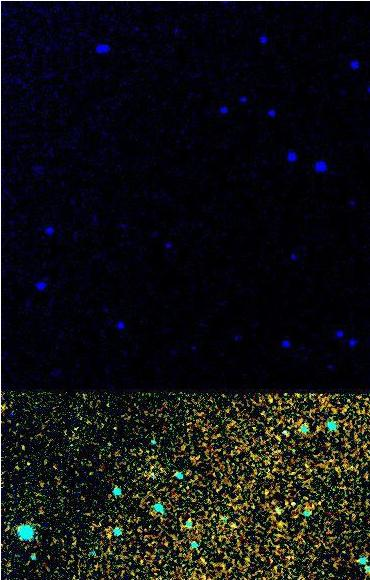star: (93, 523, 123, 553)
